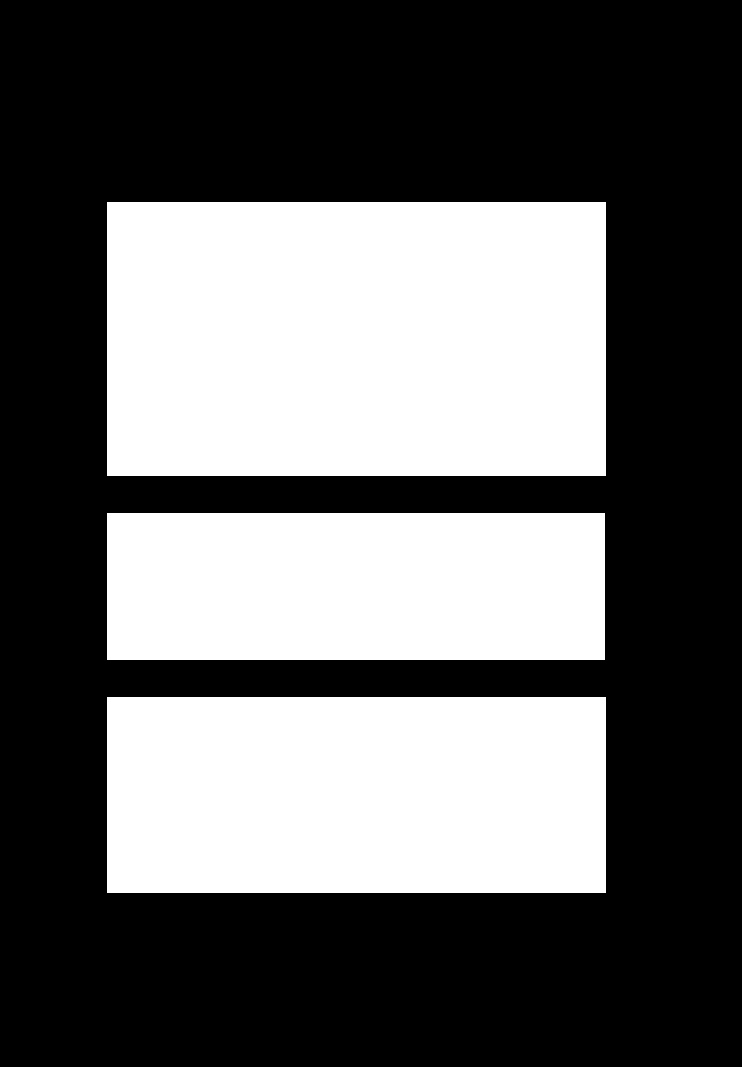table: (107, 202, 605, 475), (107, 697, 605, 892), (107, 513, 604, 659)
